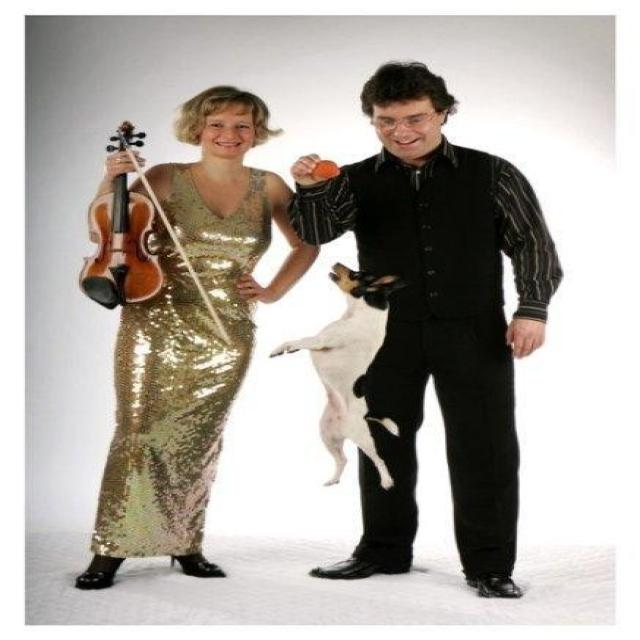violin: (70, 118, 172, 311)
